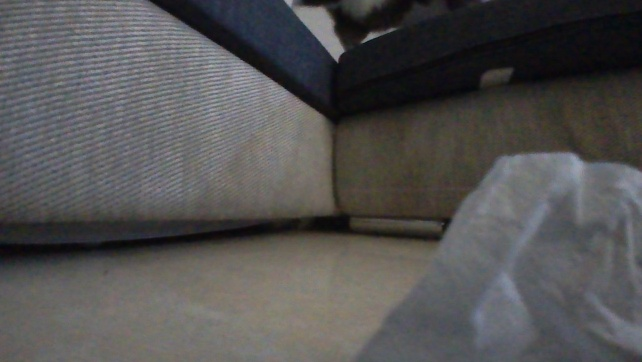sofa1: (0, 0, 641, 251)
